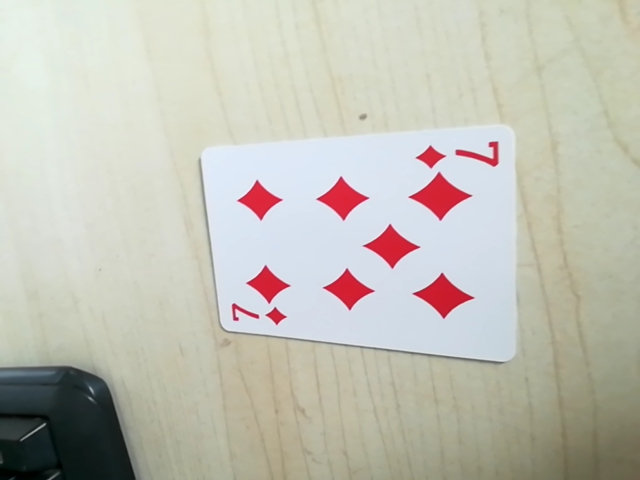fk 7: (413, 132, 501, 173), (225, 301, 289, 330)
